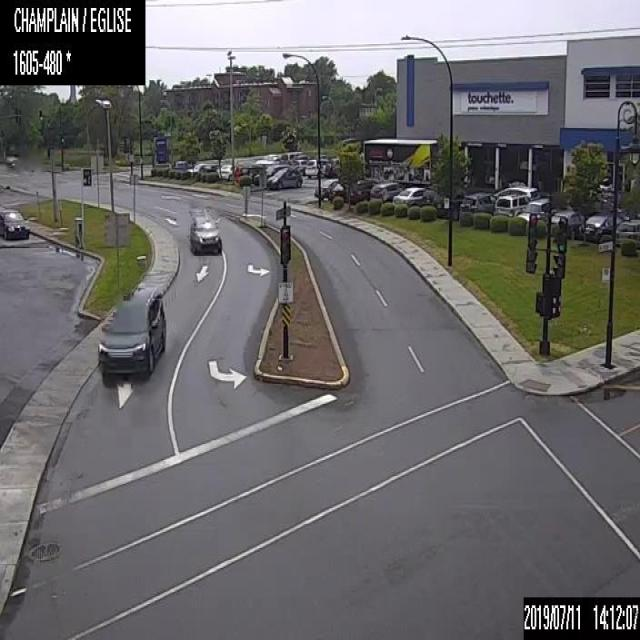vehicle: (98, 284, 166, 381), (362, 136, 471, 188), (189, 211, 221, 252), (578, 212, 622, 240), (545, 209, 587, 234), (458, 191, 496, 218), (493, 194, 534, 218), (0, 208, 29, 239), (433, 190, 465, 217), (329, 181, 370, 202), (392, 186, 435, 206), (516, 197, 552, 220), (265, 166, 302, 188), (253, 163, 289, 184), (369, 180, 402, 202), (493, 185, 539, 200), (615, 218, 639, 245), (313, 177, 341, 199), (234, 164, 264, 181), (305, 158, 330, 177), (279, 150, 303, 164), (216, 164, 236, 180), (293, 153, 307, 175), (255, 156, 285, 164), (202, 162, 222, 173), (6, 156, 22, 168), (193, 162, 206, 174), (174, 160, 192, 168), (316, 153, 328, 161), (186, 164, 194, 175)
